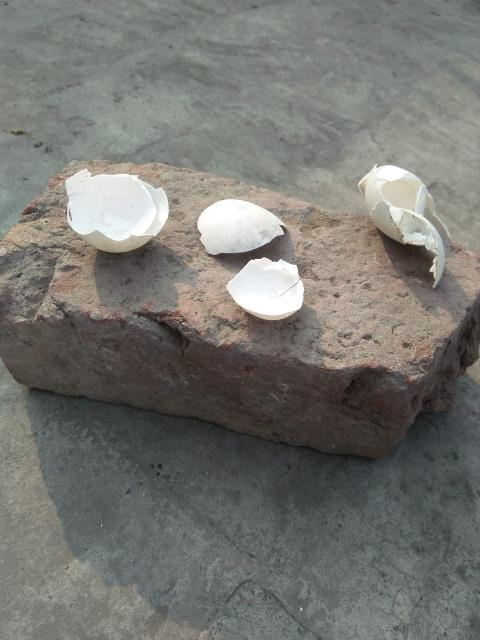Roto: (357, 162, 450, 289), (64, 168, 169, 254), (198, 197, 290, 256), (226, 256, 305, 321)
